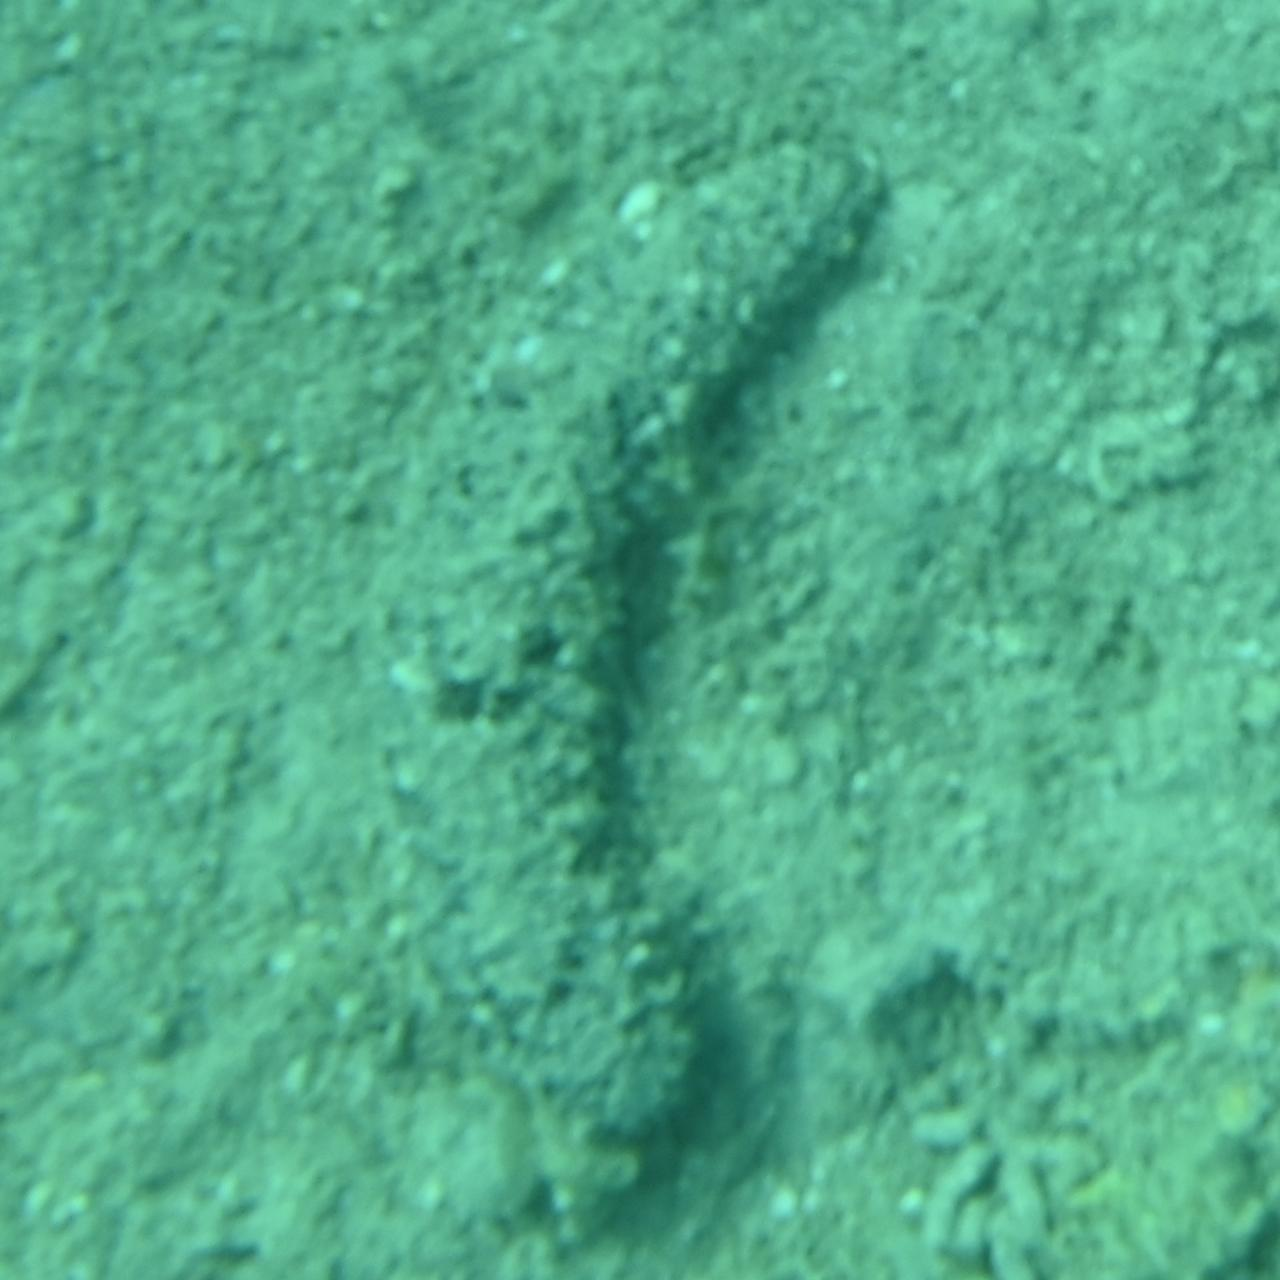Holothuria tubulosa: (359, 123, 921, 1157)
